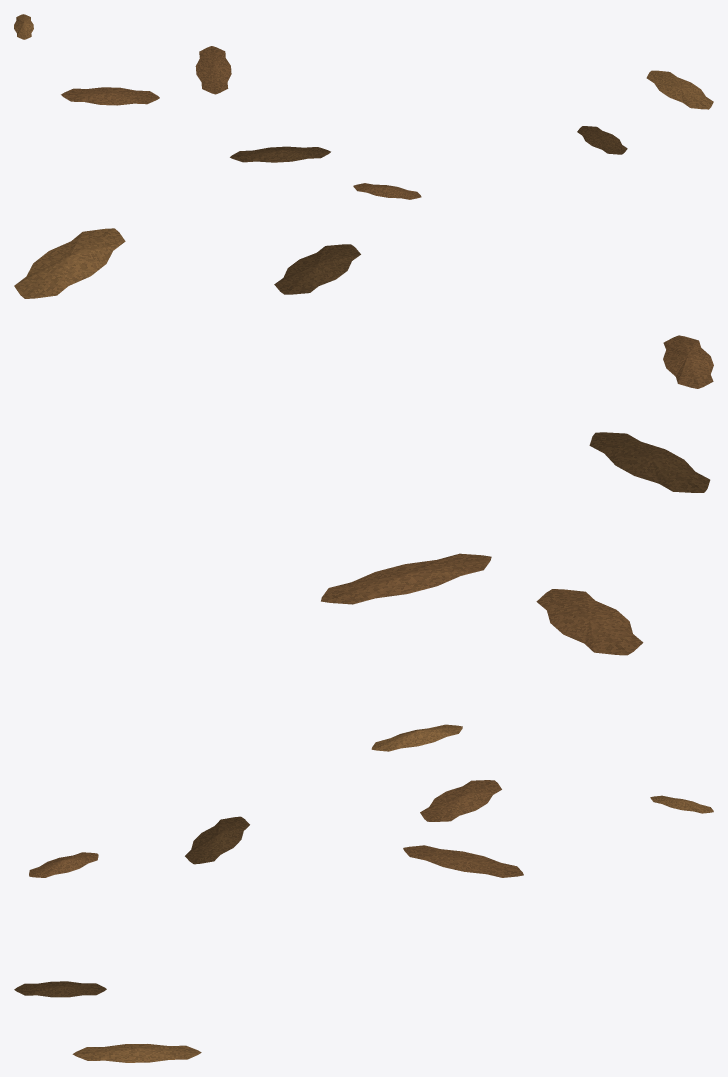
The model's file is curled_leaf_litter.gltf.
3 renders of one model, top to bottom at view 1: azimuth 30°, elevation 25°; view 2: azimuth 150°, elevation 25°; view 3: azimuth 270°, elevation 25°, orthographic. The views are drawn at different scales.
Parts seen in each view (by area): view 1: curled_leaf_litter; view 2: curled_leaf_litter; view 3: curled_leaf_litter.
Part boxes in pixels (<box>): curled_leaf_litter: <box>14,14,713,199</box>; curled_leaf_litter: <box>14,228,713,751</box>; curled_leaf_litter: <box>14,780,713,1062</box>.
Bounding box in the file's own units: 0.6637 × 0.00584 × 0.694.
3 materials, 3 textured.
